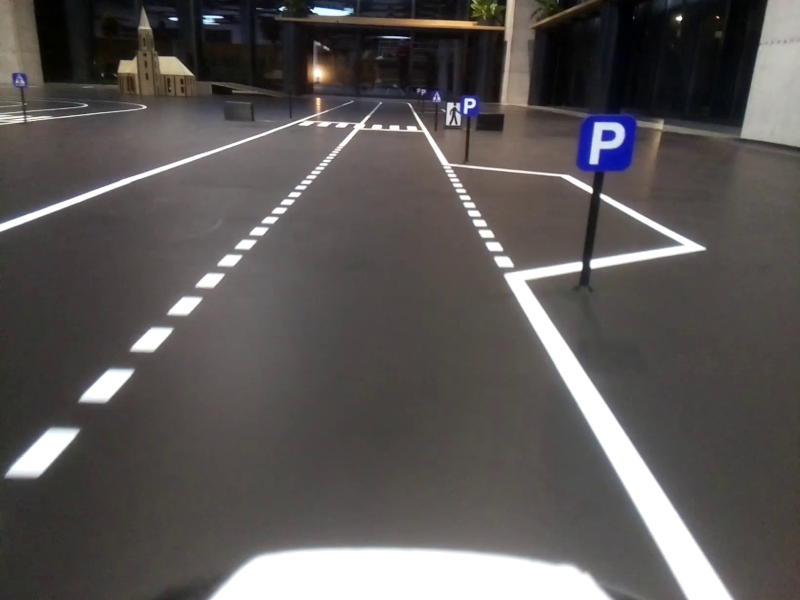park: (576, 114, 631, 177)
